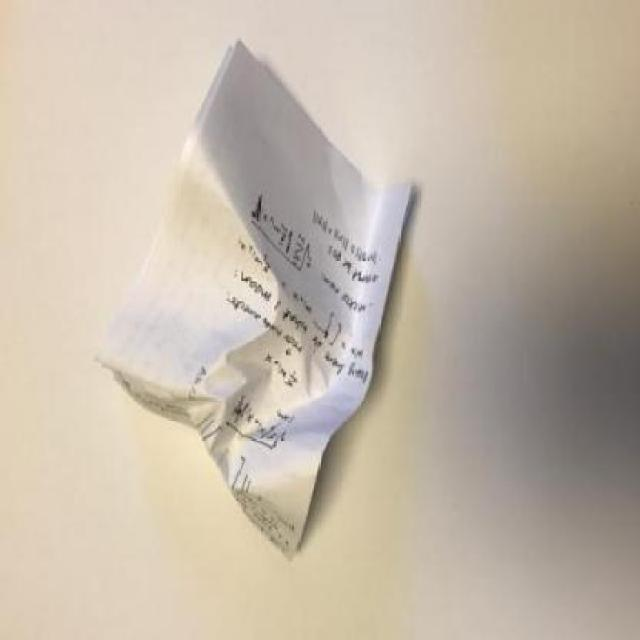giay: (99, 42, 411, 554)
